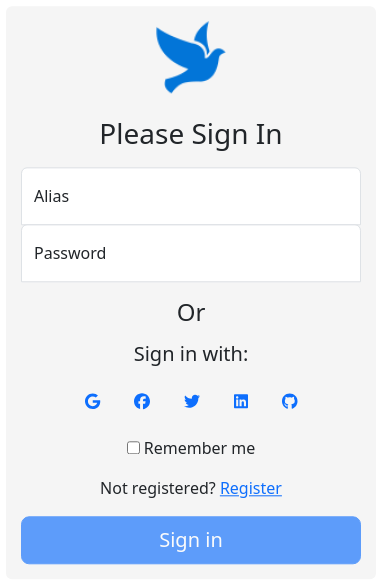
Test: Login Component › disables the sign in button if either the alias or the password field is cleared
This screenshot has width=383, height=587.
Type "a" into the field labelled "Alias" at (191, 196), box [21,167,361,225]
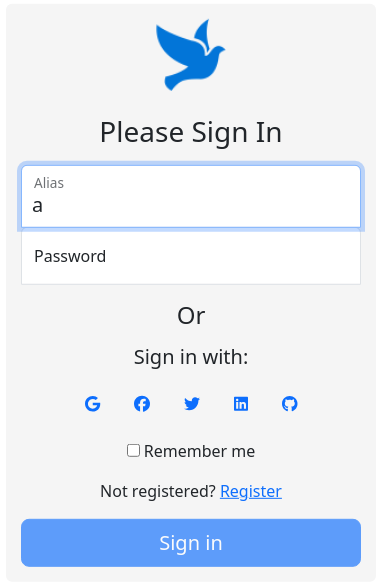
Type "b" into the password field labelled "Password" at (191, 255), box [21,226,361,284]
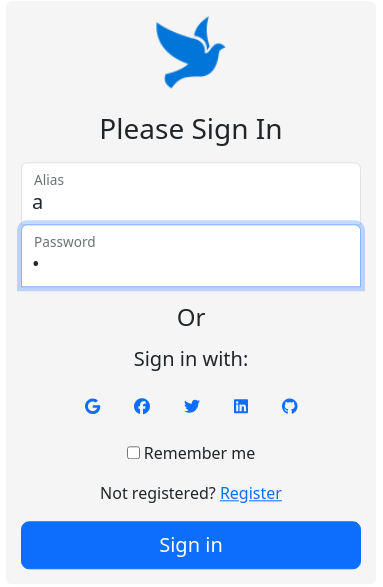
Expected: the button "Sign in" is enabled, [21,522,361,570]
Clear the field labelled "Alias" at (191, 193), box [21,162,361,225]
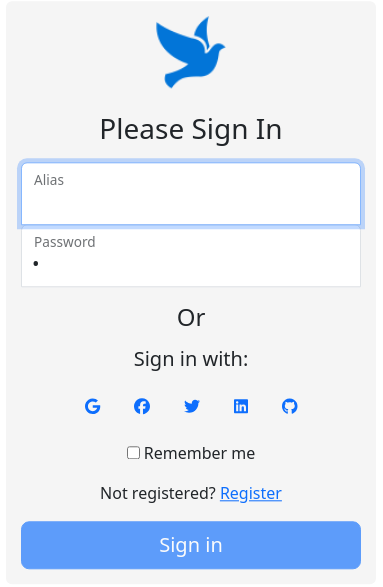
Expected: the button "Sign in" is disabled, [21,522,361,570]
Type "a" into the field labelled "Alias" at (191, 193), box [21,162,361,225]
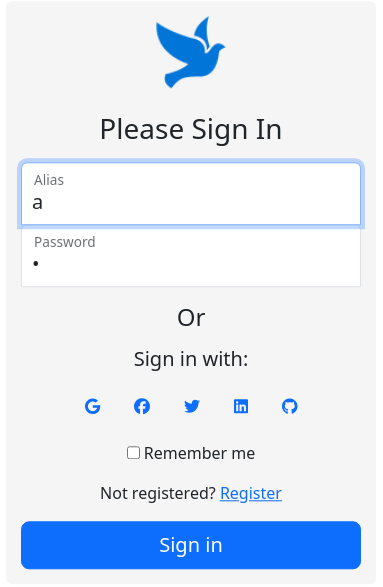
Expected: the button "Sign in" is enabled, [21,522,361,570]
Clear the field labelled "Alias" at (191, 193), box [21,162,361,225]
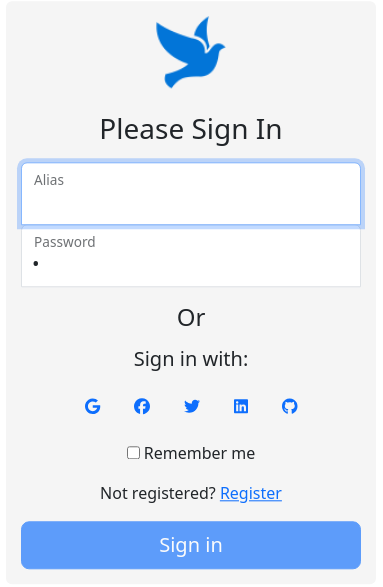
Expected: the button "Sign in" is disabled, [21,522,361,570]
